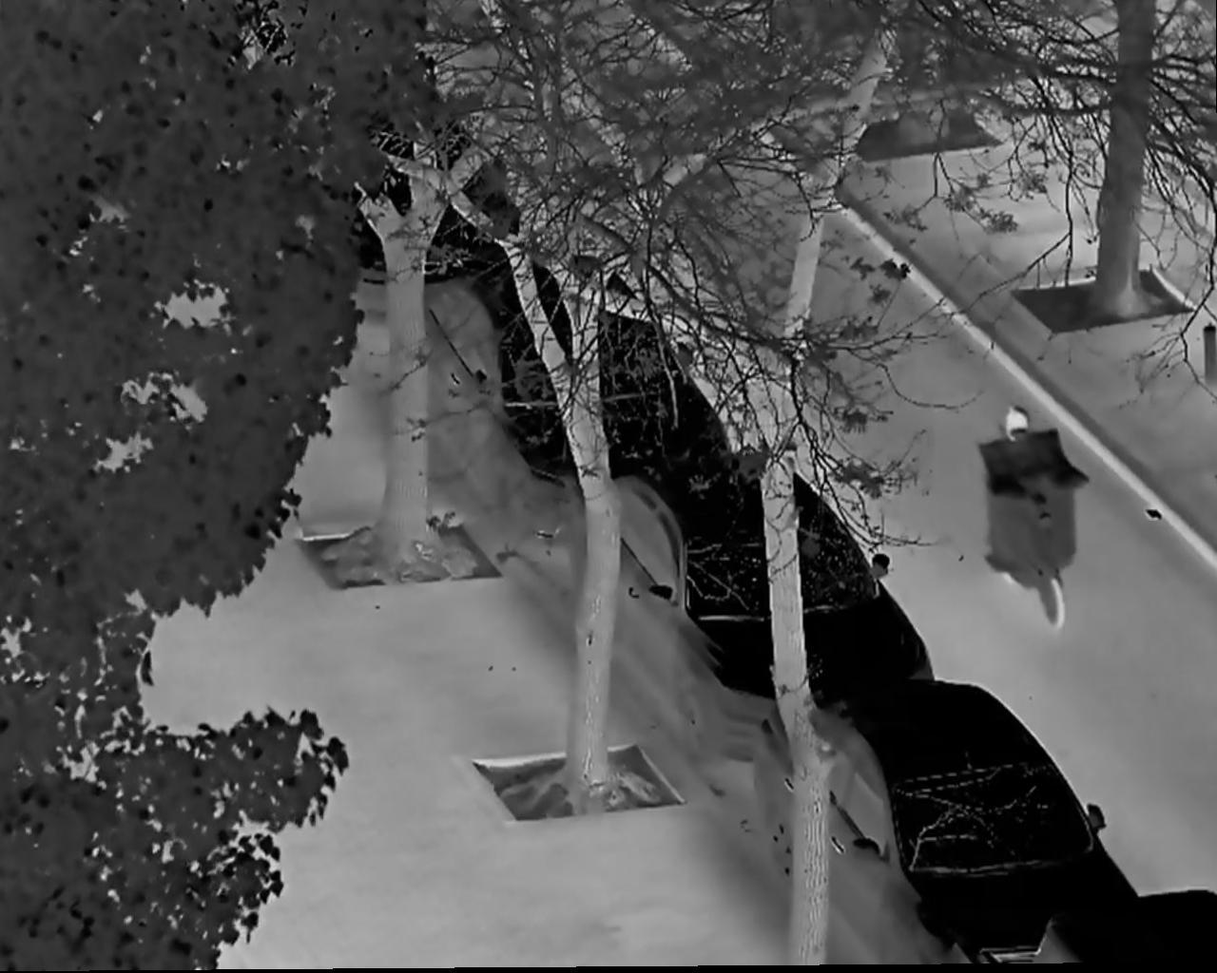person: (995, 406, 1061, 594)
